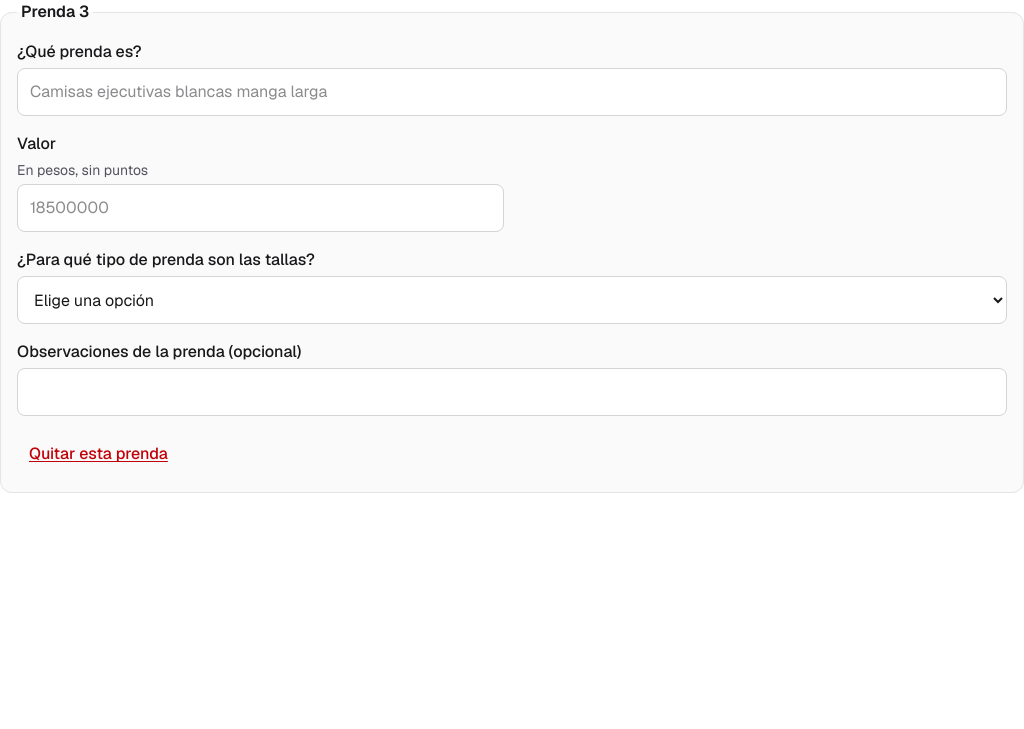
it: FilaPrenda · tallaje › lo ilegible o negativo no suma
The image size is (1024, 729).
Select "Superior dama" in the dropdown labelled "¿Para qué tipo de prenda son las tallas?" at (512, 300), box [17,276,1007,324]
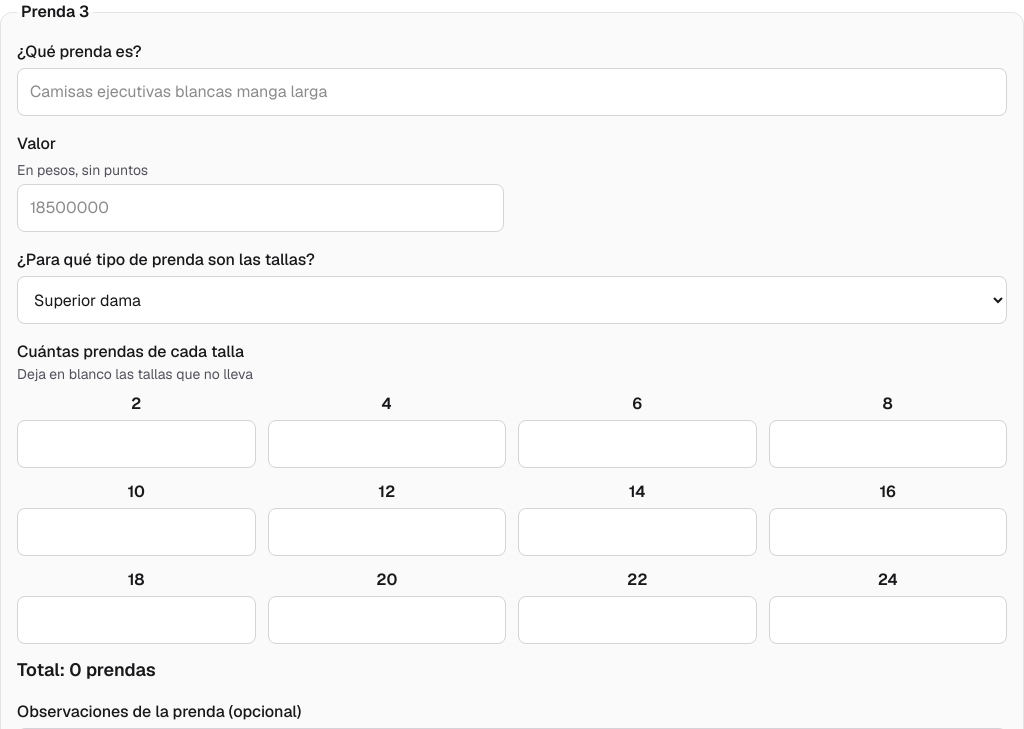
Type "abc" into the field labelled "2".
click(136, 444); type("abc")  # box [17,420,256,468]
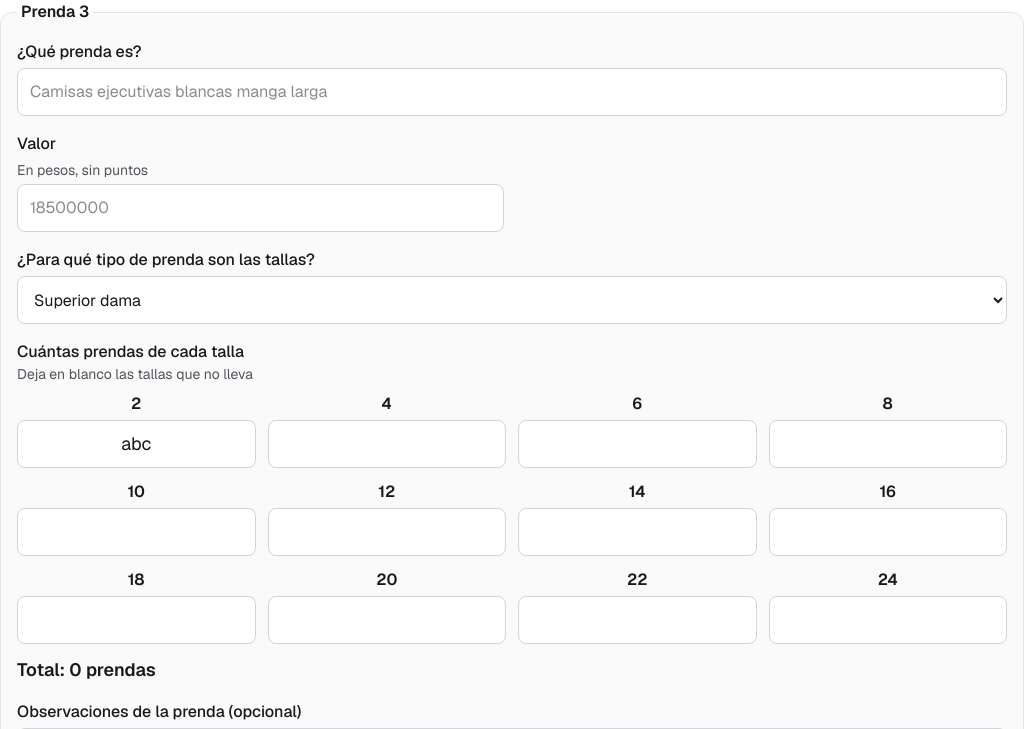
Type "-5" into the field labelled "4".
click(387, 444); type("-5")  # box [268,420,506,468]
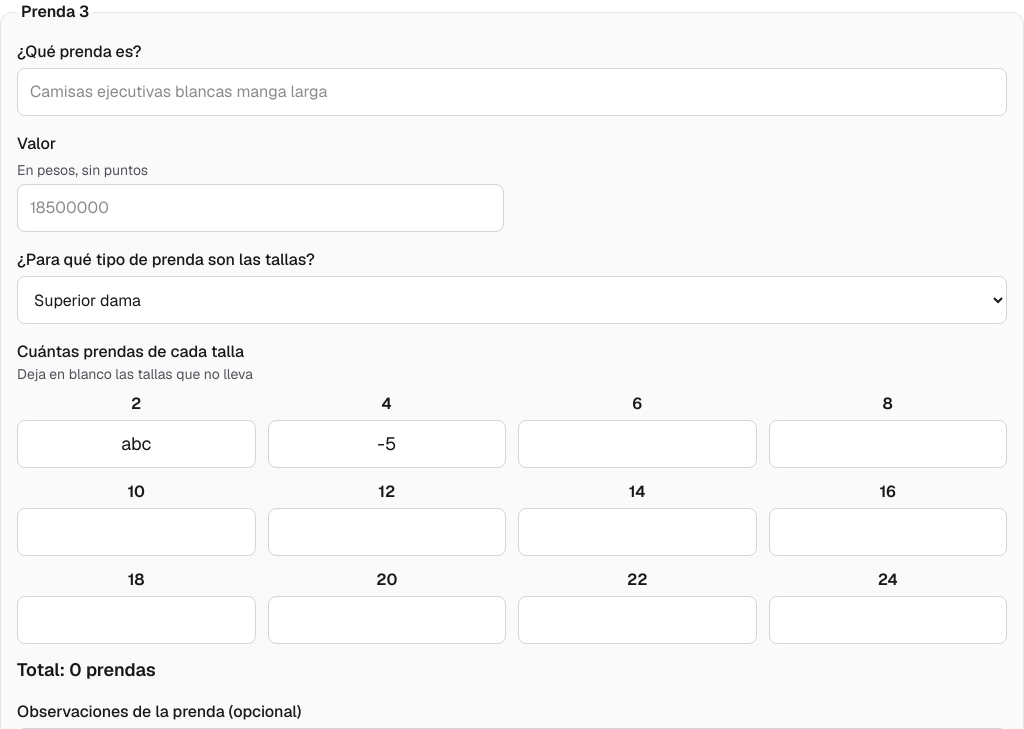
Type "3" into the field labelled "6".
click(637, 444); type("3")  # box [518,420,756,468]
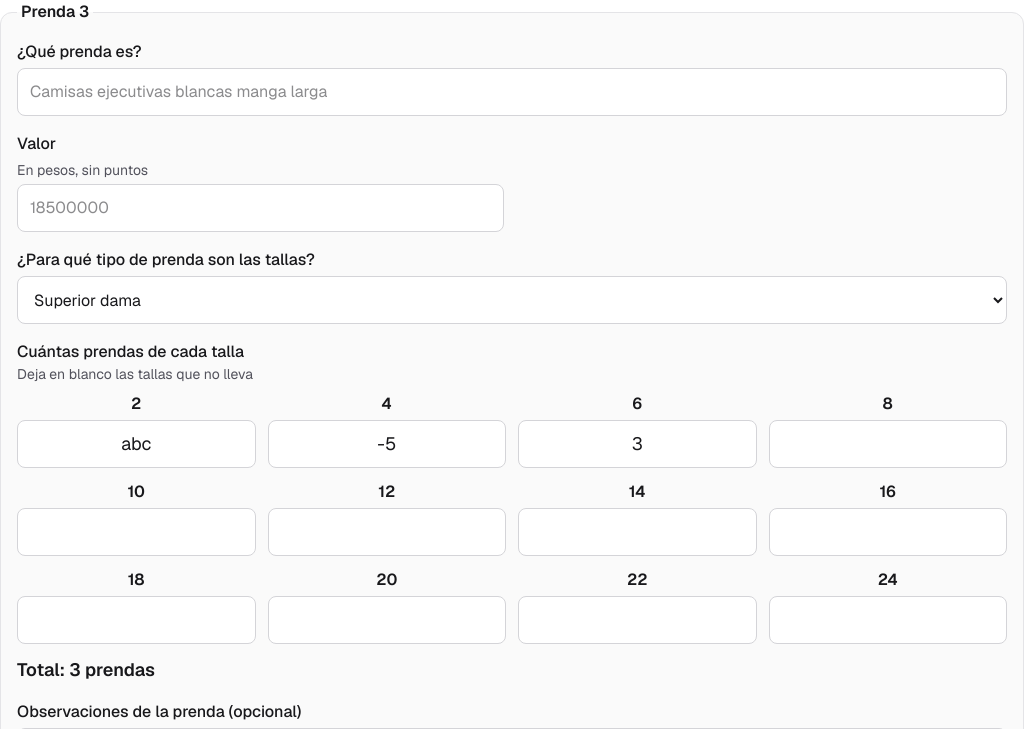
expect the message reads "Total: 3 prendas": met, box [17,658,155,681]
